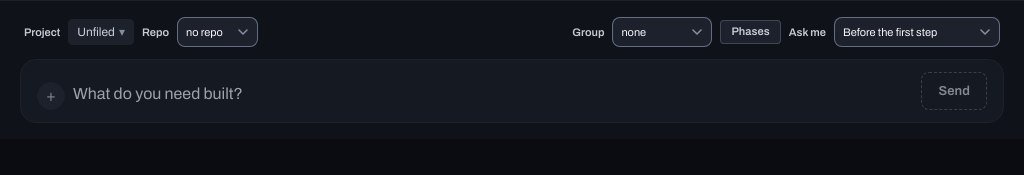
Test: T30 — every rendered word on the Test surfaces says Test (#203) › T30 — the chat composer's group-attach chip
Select "suite-1" in the dropdown with test id "group-attach" at (662, 32), box [612,17,712,47]
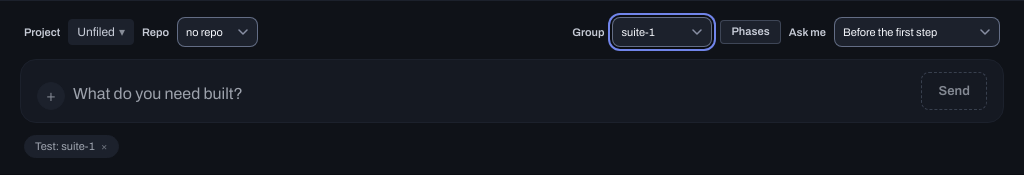
expect the element with test id "group-pill" shows "Test: suite-1": met, box [35,140,95,152]
